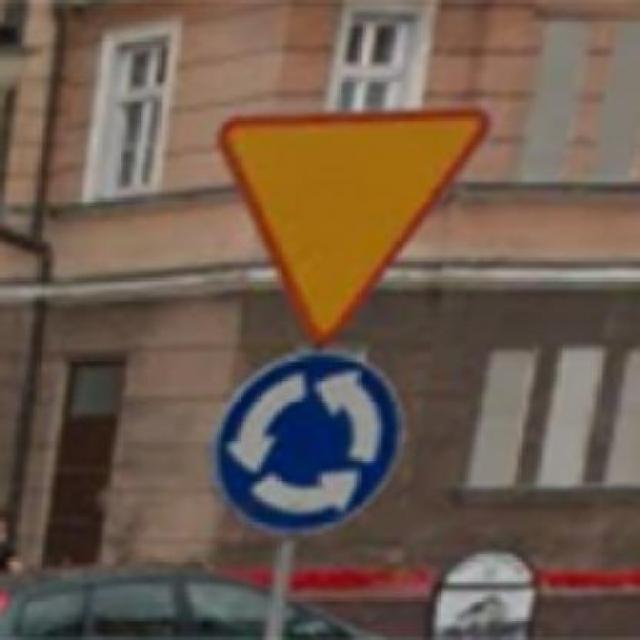Ustap pierwszenstwa: (210, 105, 492, 349)
